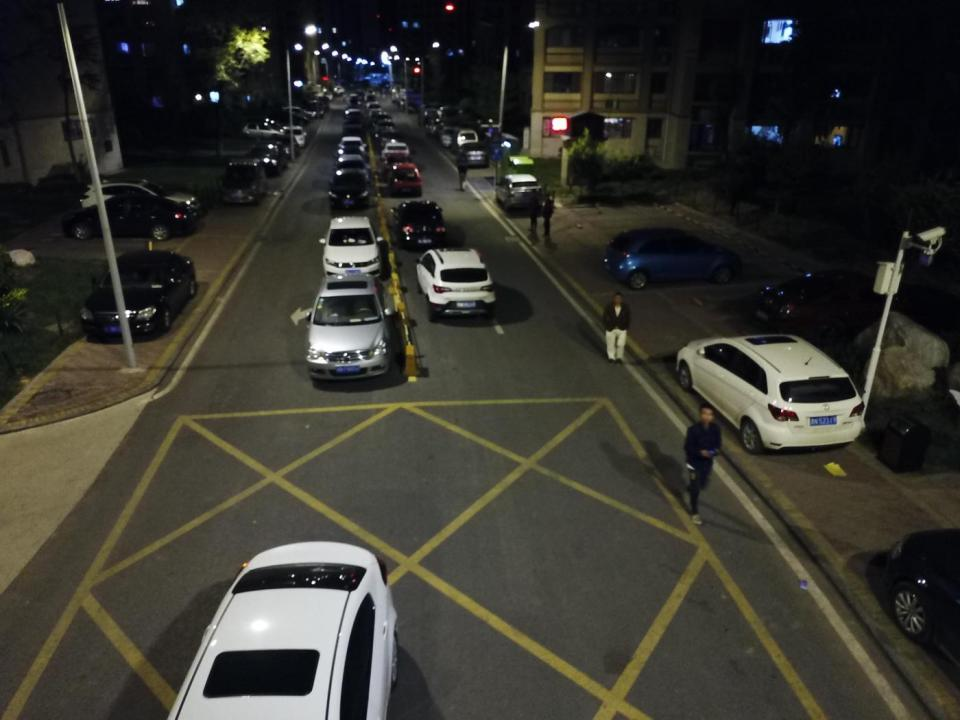car: (167, 539, 398, 720), (673, 332, 868, 452), (748, 261, 924, 333), (78, 249, 199, 343), (303, 272, 396, 386), (604, 226, 742, 290), (414, 243, 497, 325), (75, 172, 205, 219), (65, 194, 200, 237), (320, 214, 384, 278), (393, 197, 452, 247), (218, 154, 269, 206), (324, 167, 375, 214), (496, 174, 548, 209), (380, 162, 424, 195), (247, 139, 289, 173), (336, 150, 374, 179), (455, 139, 489, 170), (262, 105, 311, 126), (236, 121, 287, 141), (333, 133, 367, 163), (380, 149, 415, 177), (267, 101, 309, 123), (426, 115, 461, 137), (418, 103, 460, 121), (272, 134, 301, 160), (381, 140, 412, 162), (376, 127, 404, 148), (284, 124, 307, 148), (303, 99, 329, 119), (440, 127, 466, 146), (339, 118, 365, 136), (343, 107, 365, 126), (344, 102, 367, 117), (373, 117, 396, 131), (370, 110, 390, 126), (365, 100, 384, 116), (345, 91, 362, 107), (366, 94, 377, 103)
van: (454, 128, 485, 152)
